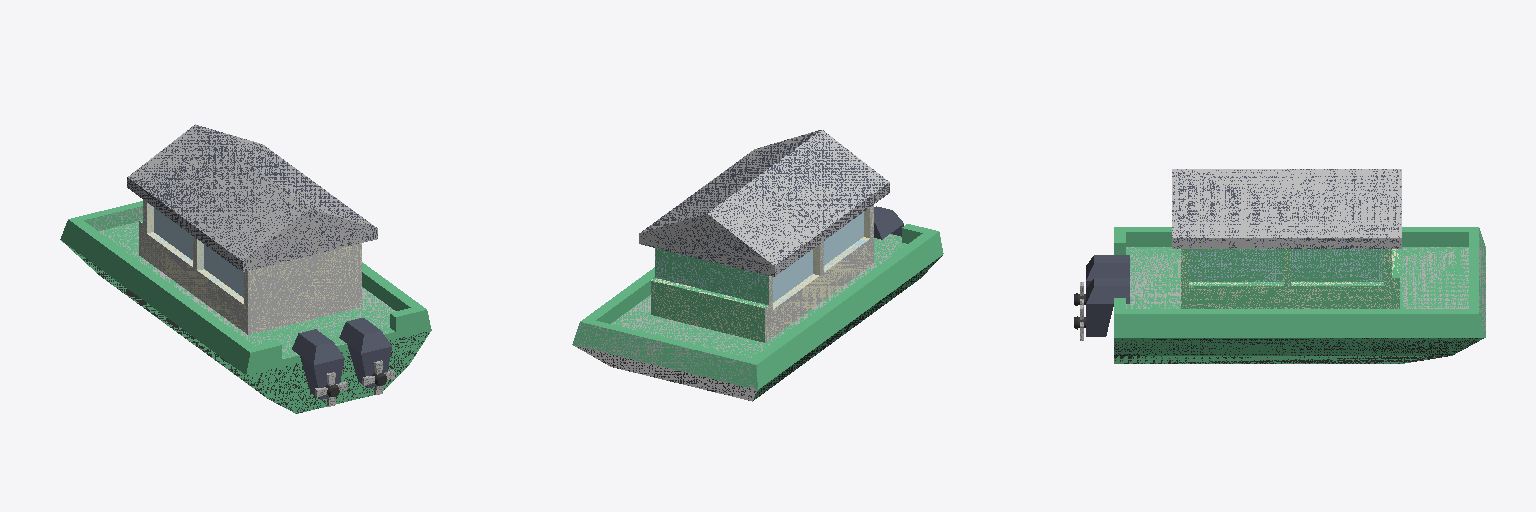
The model's file is boat.obj.
3 views of the same model, side by side, from view 1: azimuth 30°, elevation 25°; view 2: azimuth 150°, elevation 25°; view 3: azimuth 270°, elevation 25° (orthographic).
Parts seen in each view (by area): view 1: boat, Group; view 2: boat, Group; view 3: boat, Group.
Boxes of the visible parts, <box> form: boat: <box>60,124,431,413</box>; Group: <box>292,318,394,406</box>; boat: <box>572,130,943,401</box>; Group: <box>874,206,903,239</box>; boat: <box>1114,169,1485,363</box>; Group: <box>1074,255,1129,340</box>.
Size of the model in its own units: 2.68 by 2.4 by 5.14.